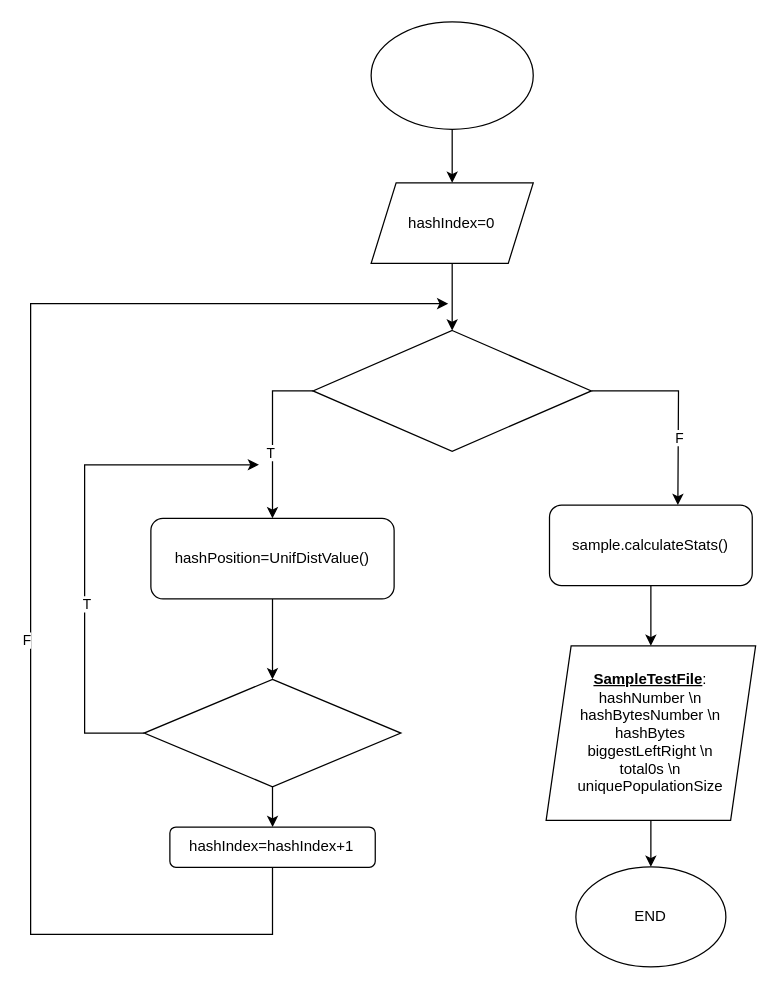
The diagram is 778 pixels wide and 989 high, and some of its shapes have lost their labels. The centre of each missing label's shape, as x and y in pixels:
"IF hashIndex<sampleSize" goes at point (451, 390).
"IF hashPosition.isUsed" goes at point (272, 732).
"START" goes at point (451, 75).
